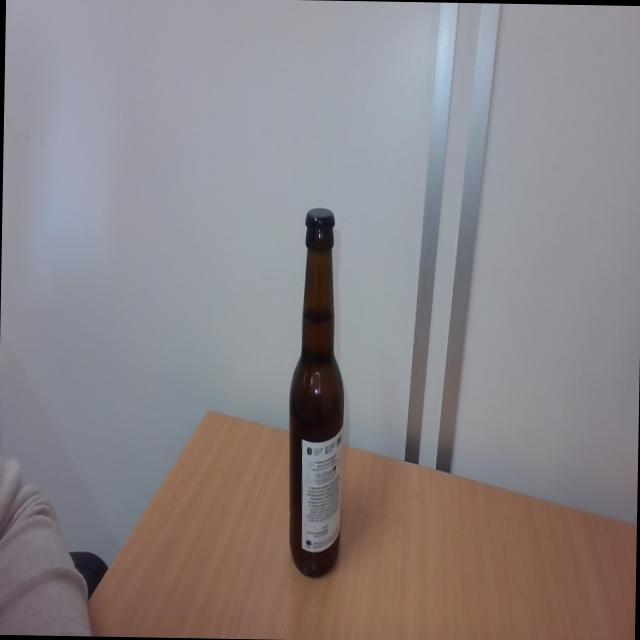Bottle: (285, 234, 346, 582)
Cap: (303, 203, 337, 237)
Label: (302, 431, 342, 554)
